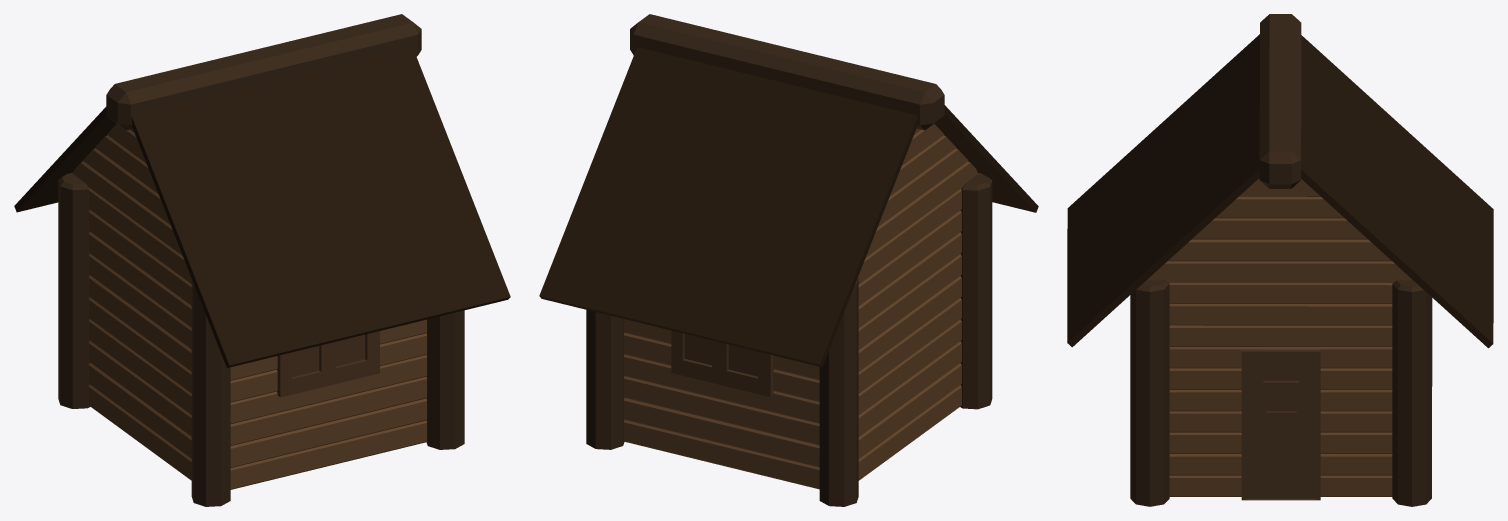
The model's file is cabin.fbx.
The picture shows the model from 3 angles, left to right: view 1: azimuth 30°, elevation 25°; view 2: azimuth 150°, elevation 25°; view 3: azimuth 270°, elevation 25°; orthographic projection.
Visible parts, largest first — view 1: Cabin; view 2: Cabin; view 3: Cabin.
Part boxes in pixels (box(x1,y1,x2,y2)): Cabin: box(14, 14, 510, 506); Cabin: box(539, 14, 1038, 506); Cabin: box(1067, 14, 1493, 506).
Size of the model in its own units: 936 by 1083 by 1160.
